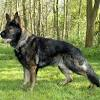Lobo: (1, 10, 96, 86)
